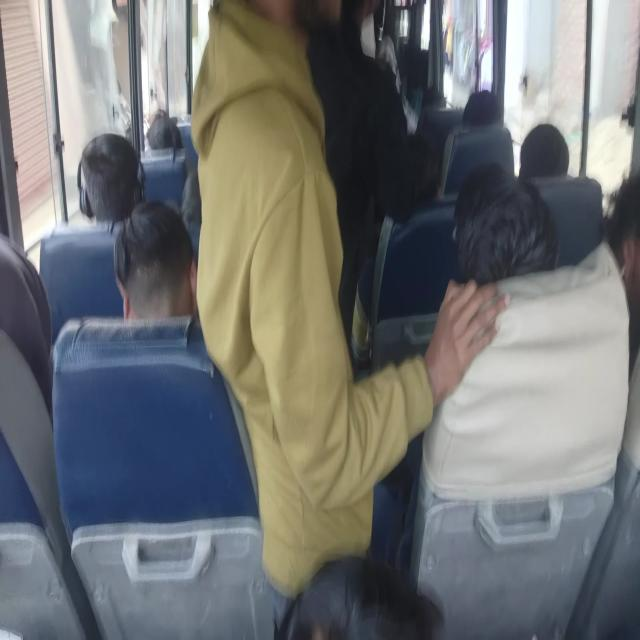person: (190, 1, 511, 606), (410, 166, 636, 636), (304, 0, 427, 366), (452, 161, 560, 287), (112, 198, 198, 321), (602, 168, 639, 376), (77, 132, 145, 234), (518, 122, 570, 179)
